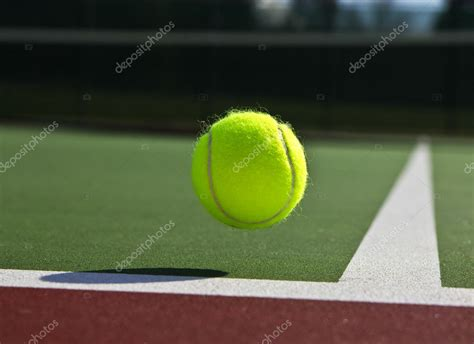tennis_ball: (190, 109, 308, 230)
